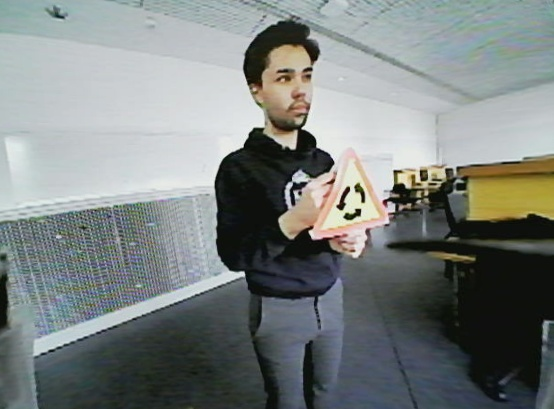roundabout_warning: (307, 145, 397, 239)
